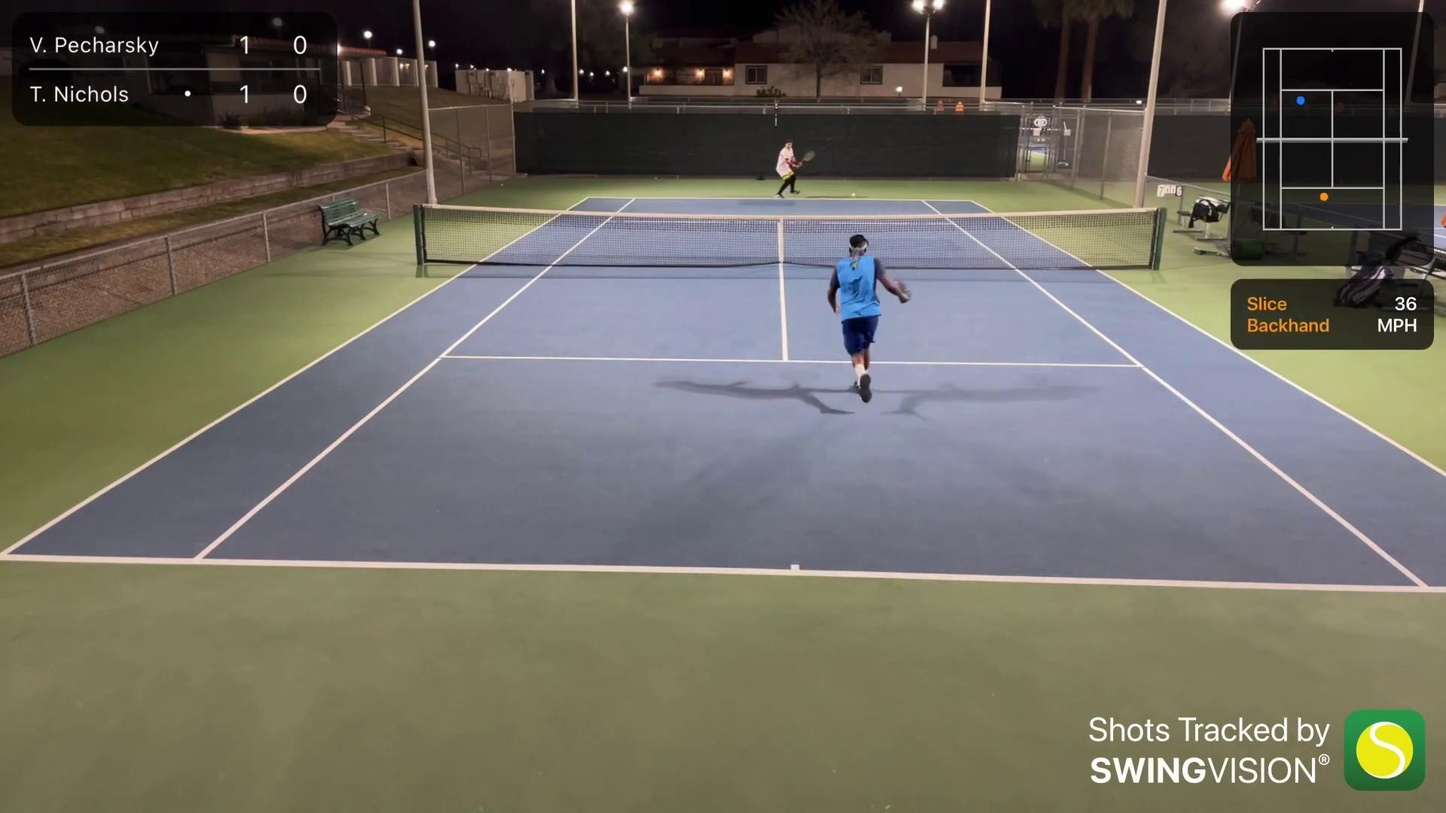ball: (850, 192, 857, 199)
